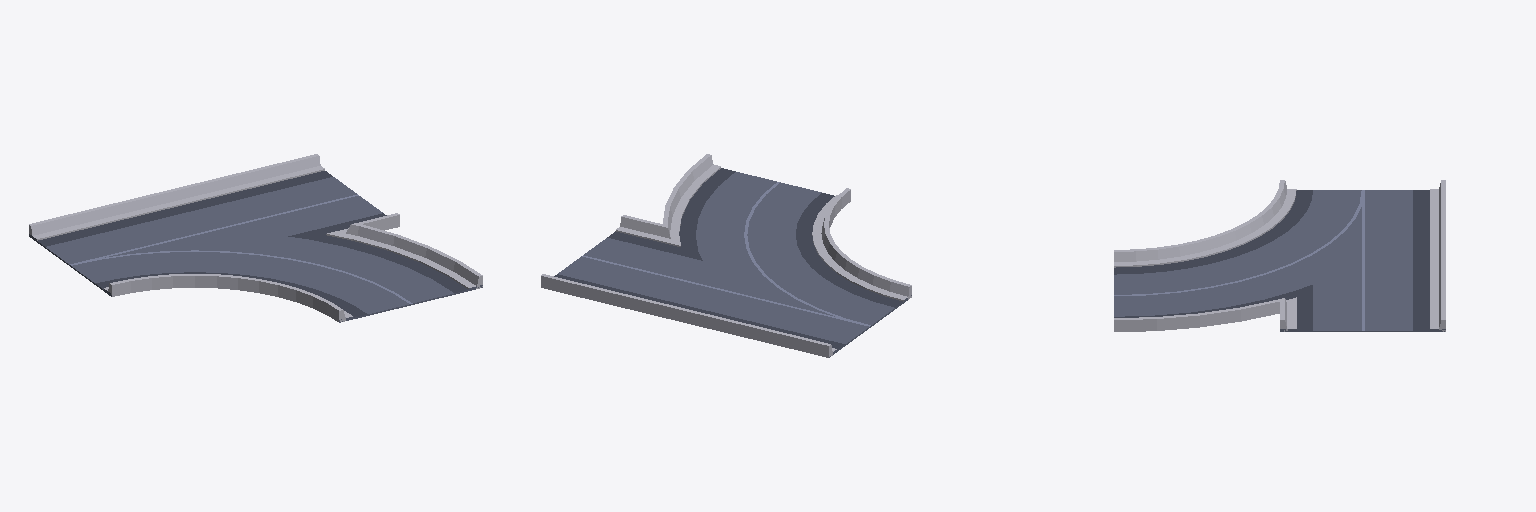
The model's file is road_curvesplitright.obj.
3 views of the same model, side by side, from view 1: azimuth 30°, elevation 25°; view 2: azimuth 150°, elevation 25°; view 3: azimuth 270°, elevation 25° (orthographic).
Parts seen in each view (by area): view 1: road_curvestraight, road_curvestraightBarrier; view 2: road_curvestraight, road_curvestraightBarrier; view 3: road_curvestraight, road_curvestraightBarrier.
Boxes of the visible parts, <box> form: road_curvestraight: <box>29,166,482,322</box>; road_curvestraightBarrier: <box>29,154,482,321</box>; road_curvestraight: <box>541,165,911,357</box>; road_curvestraightBarrier: <box>541,154,911,357</box>; road_curvestraight: <box>1114,189,1445,331</box>; road_curvestraightBarrier: <box>1114,180,1445,331</box>.
Bounding box in the file's own units: 2 × 0.08 × 2.